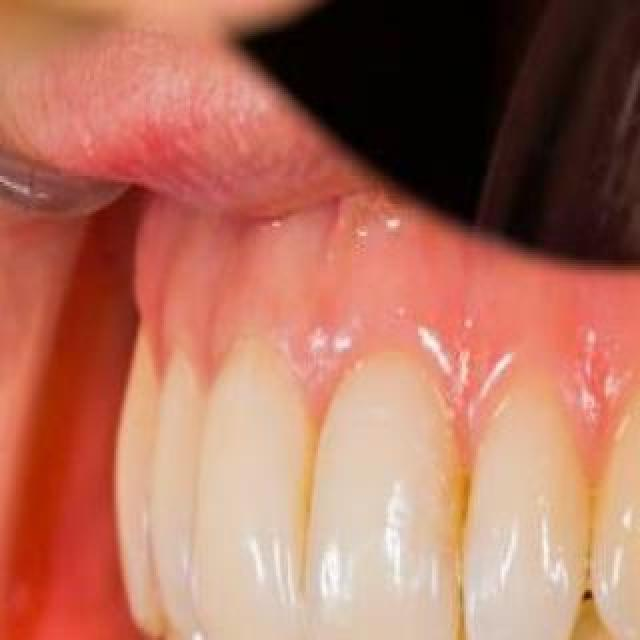plaque: (424, 442, 510, 628), (275, 428, 353, 608)
